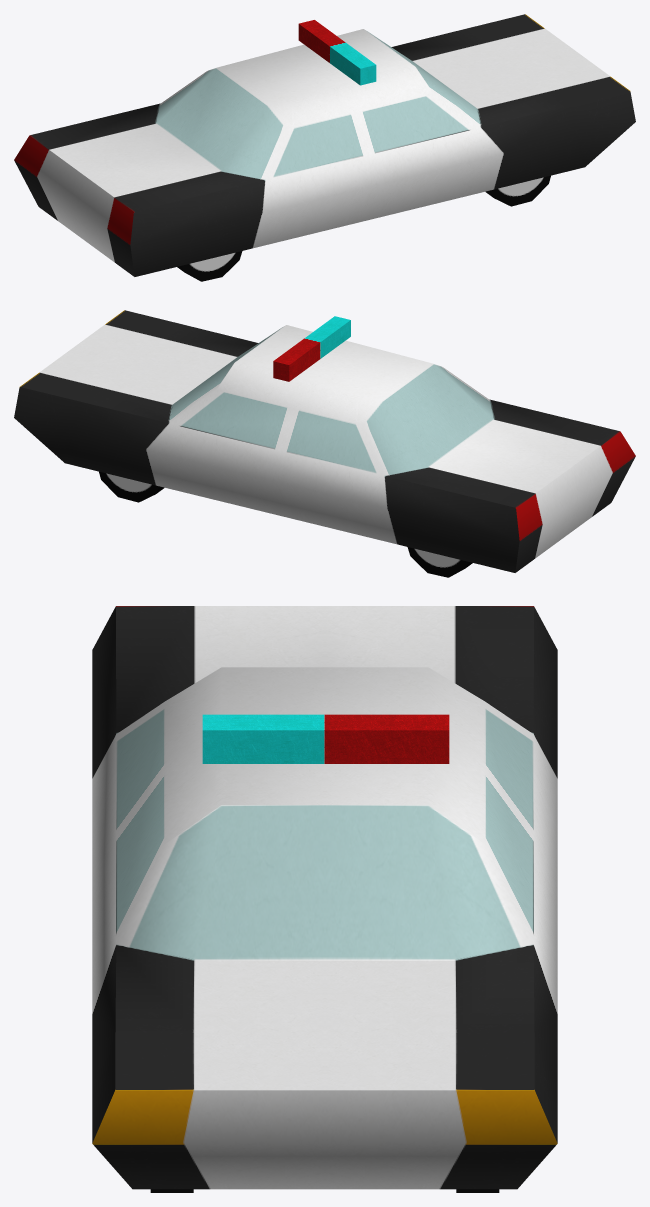
File: PoliceCar.FBX
3 renders of one model, top to bottom at view 1: azimuth 30°, elevation 25°; view 2: azimuth 150°, elevation 25°; view 3: azimuth 270°, elevation 25°, orthographic. The views are drawn at different scales.
Visible parts, largest first — view 1: Box001; view 2: Box001; view 3: Box001.
Part boxes in pixels (box(x1,y1,x2,y2)): Box001: box(14, 14, 635, 281); Box001: box(14, 310, 635, 577); Box001: box(92, 606, 557, 1192).
Size of the model in its own units: 189 by 57.98 by 75.48.
1 material, 1 textured.
